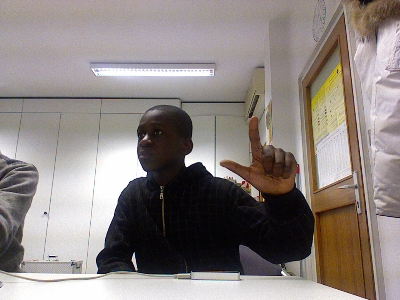枪: (218, 116, 297, 195)
